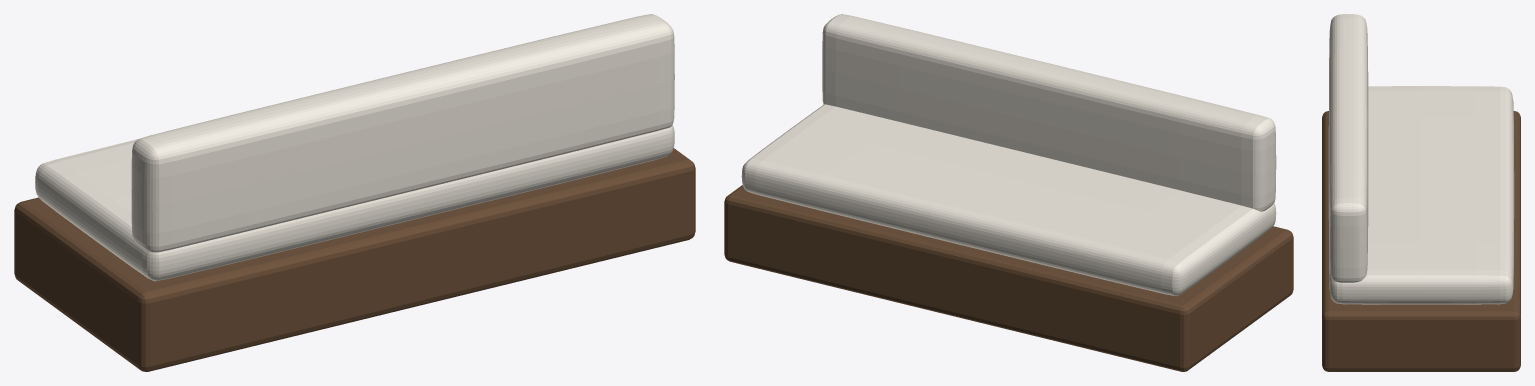
Rendered from outdoor-sofa.glb.
3 renders of one model, left to right at view 1: azimuth 30°, elevation 25°; view 2: azimuth 150°, elevation 25°; view 3: azimuth 270°, elevation 25°, orthographic. The views are drawn at different scales.
Parts seen in each view (by area): view 1: osofa_back, osofa_base, osofa_seat; view 2: osofa_seat, osofa_back, osofa_base; view 3: osofa_seat, osofa_base, osofa_back.
Part boxes in pixels (<box>): osofa_back: <box>131,14,674,252</box>; osofa_base: <box>14,148,695,371</box>; osofa_seat: <box>35,125,674,281</box>; osofa_seat: <box>741,104,1276,296</box>; osofa_back: <box>822,14,1276,211</box>; osofa_base: <box>724,185,1293,371</box>; osofa_seat: <box>1328,86,1514,304</box>; osofa_base: <box>1322,111,1520,371</box>; osofa_back: <box>1328,14,1368,282</box>.
Bounding box in the file's own units: 2.2 × 0.8196 × 0.9.
